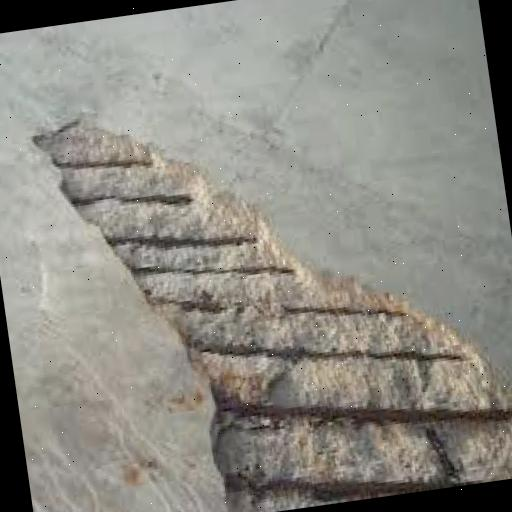spalling: (36, 115, 512, 512)
